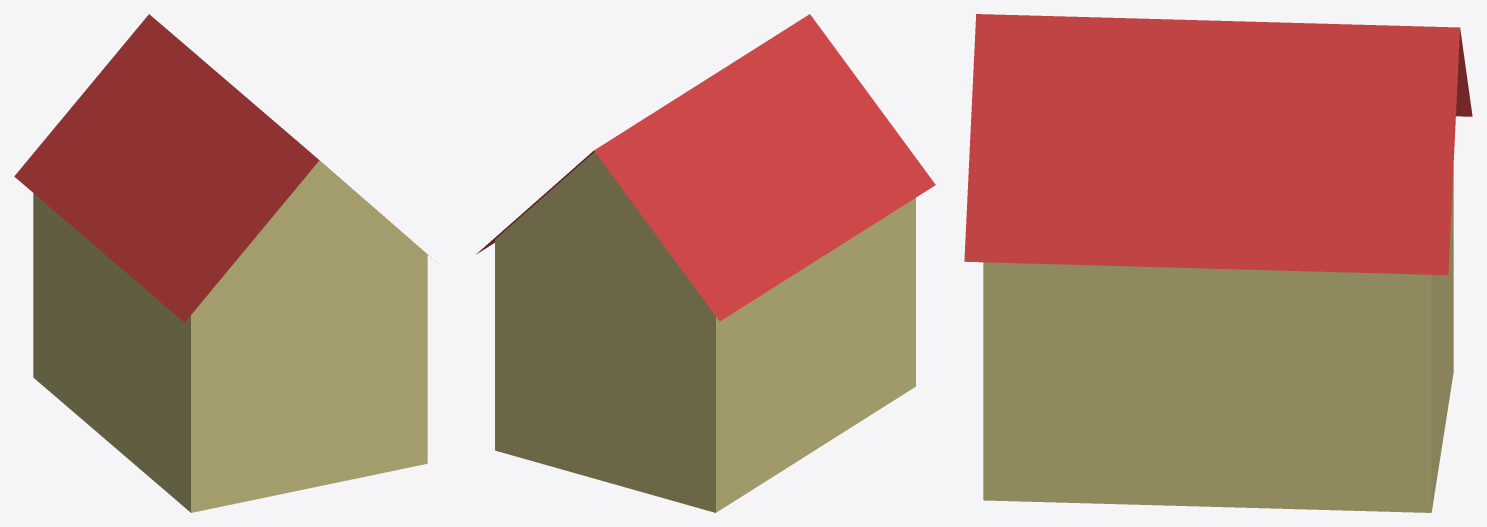
3 renders of one model, left to right at view 1: azimuth 30°, elevation 25°; view 2: azimuth 150°, elevation 25°; view 3: azimuth 270°, elevation 25°, orthographic. The views are drawn at different scales.
Bounding box in the file's own units: 11.11 × 14.17 × 12.87.
